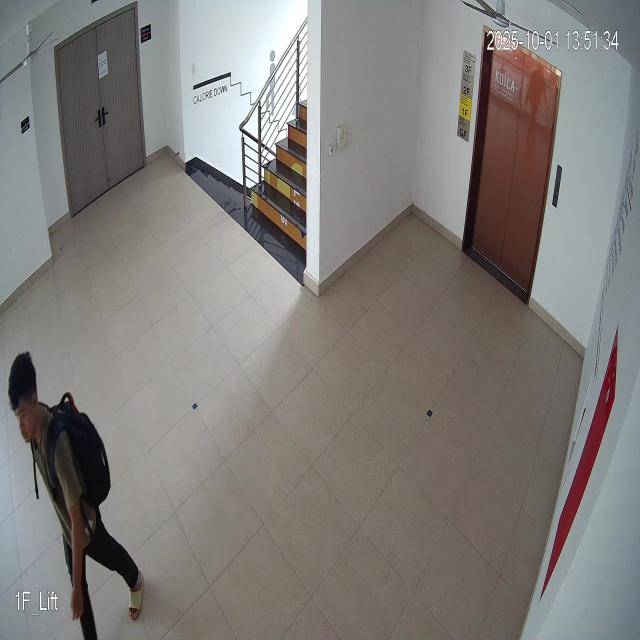face: (0, 348, 44, 451)
